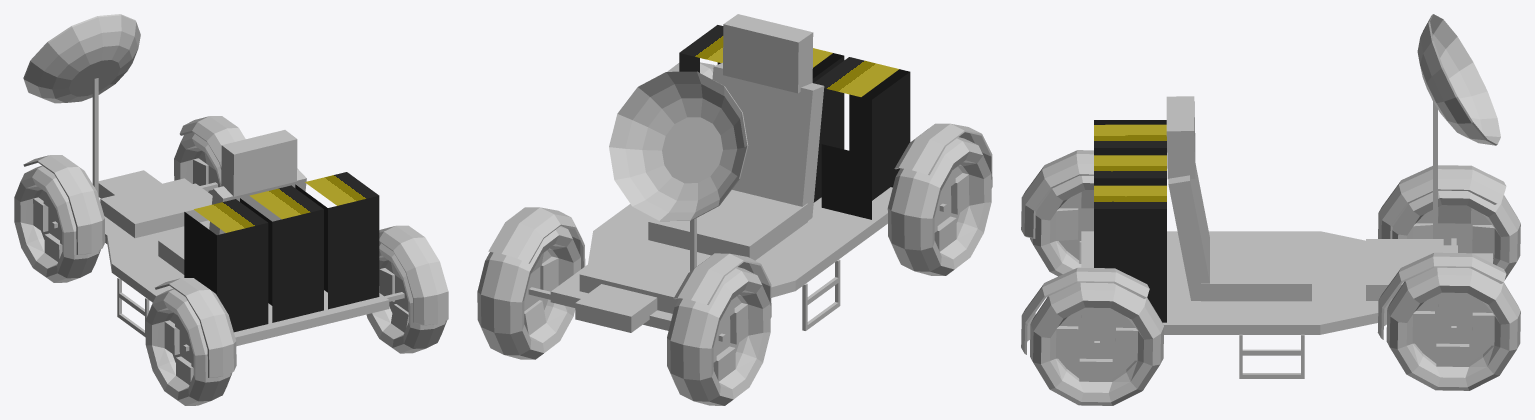
The model's file is buggy_inv.obj.
3 views of the same model, side by side, from view 1: azimuth 30°, elevation 25°; view 2: azimuth 150°, elevation 25°; view 3: azimuth 270°, elevation 25° (orthographic). The views are drawn at different scales.
Parts seen in each view (by area): view 1: MainBody, Wheel_Back_Left, Wheel_Front_Left, CargoLeft, Wheel_Back_Right, RadarDish_Dish, CargoRight, CargoMid, Wheel_Front_Right; view 2: MainBody, RadarDish_Dish, Wheel_Front_Left, Wheel_Back_Left, Wheel_Front_Right, CargoLeft, CargoMid, CargoRight; view 3: MainBody, Wheel_Front_Right, Wheel_Back_Right, Wheel_Front_Left, CargoRight, Wheel_Back_Left, RadarDish_Dish, CargoMid, CargoLeft.
Boxes of the visible parts, bbox=[...] form: MainBody: bbox=[92, 77, 389, 346]; Wheel_Back_Left: bbox=[145, 278, 236, 405]; Wheel_Front_Left: bbox=[14, 155, 105, 282]; CargoLeft: bbox=[184, 199, 268, 332]; Wheel_Back_Right: bbox=[366, 225, 448, 353]; RadarDish_Dish: bbox=[23, 14, 140, 103]; CargoRight: bbox=[295, 172, 379, 309]; CargoMid: bbox=[240, 185, 323, 322]; Wheel_Front_Right: bbox=[174, 116, 245, 195]; MainBody: bbox=[550, 14, 892, 332]; RadarDish_Dish: bbox=[609, 71, 748, 221]; Wheel_Front_Left: bbox=[667, 253, 771, 405]; Wheel_Back_Left: bbox=[887, 123, 992, 275]; Wheel_Front_Right: bbox=[477, 207, 585, 359]; CargoLeft: bbox=[813, 57, 910, 219]; CargoMid: bbox=[812, 48, 844, 149]; CargoRight: bbox=[679, 25, 723, 72]; MainBody: bbox=[1081, 96, 1492, 378]; Wheel_Front_Right: bbox=[1377, 252, 1520, 390]; Wheel_Back_Right: bbox=[1021, 267, 1164, 405]; Wheel_Front_Left: bbox=[1378, 165, 1520, 280]; CargoRight: bbox=[1094, 180, 1166, 322]; Wheel_Back_Left: bbox=[1021, 150, 1093, 276]; RadarDish_Dish: bbox=[1417, 14, 1500, 145]; CargoMid: bbox=[1094, 150, 1166, 180]; CargoLeft: bbox=[1094, 120, 1166, 150].
Bounding box in the file's own units: 1.48 × 1.46 × 2.26.
